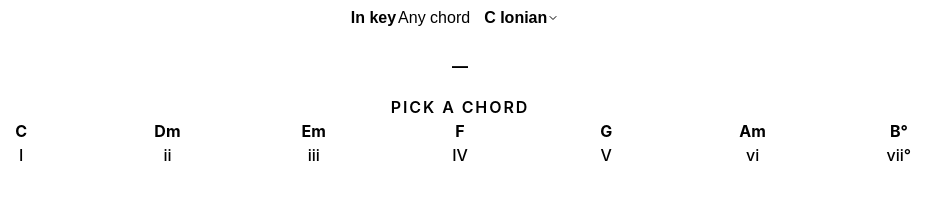
it: any chord (root + chord type) › the root picker closes with Escape
Click the radio button labelled "Any chord" at (434, 18), box [398, 6, 470, 30]
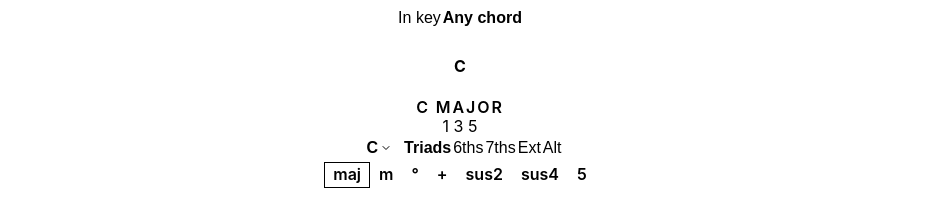
Click the button named "Change root" at (379, 148), box [356, 136, 402, 160]
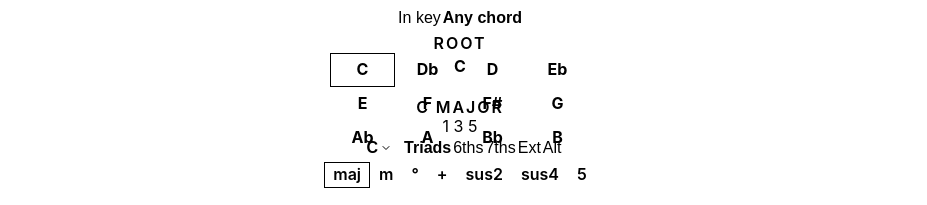
Press Escape
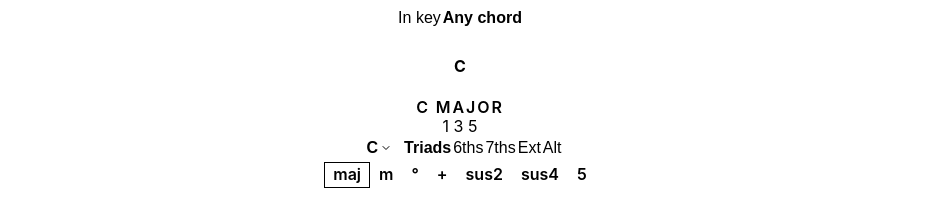
Check: the text "Root" is gone
